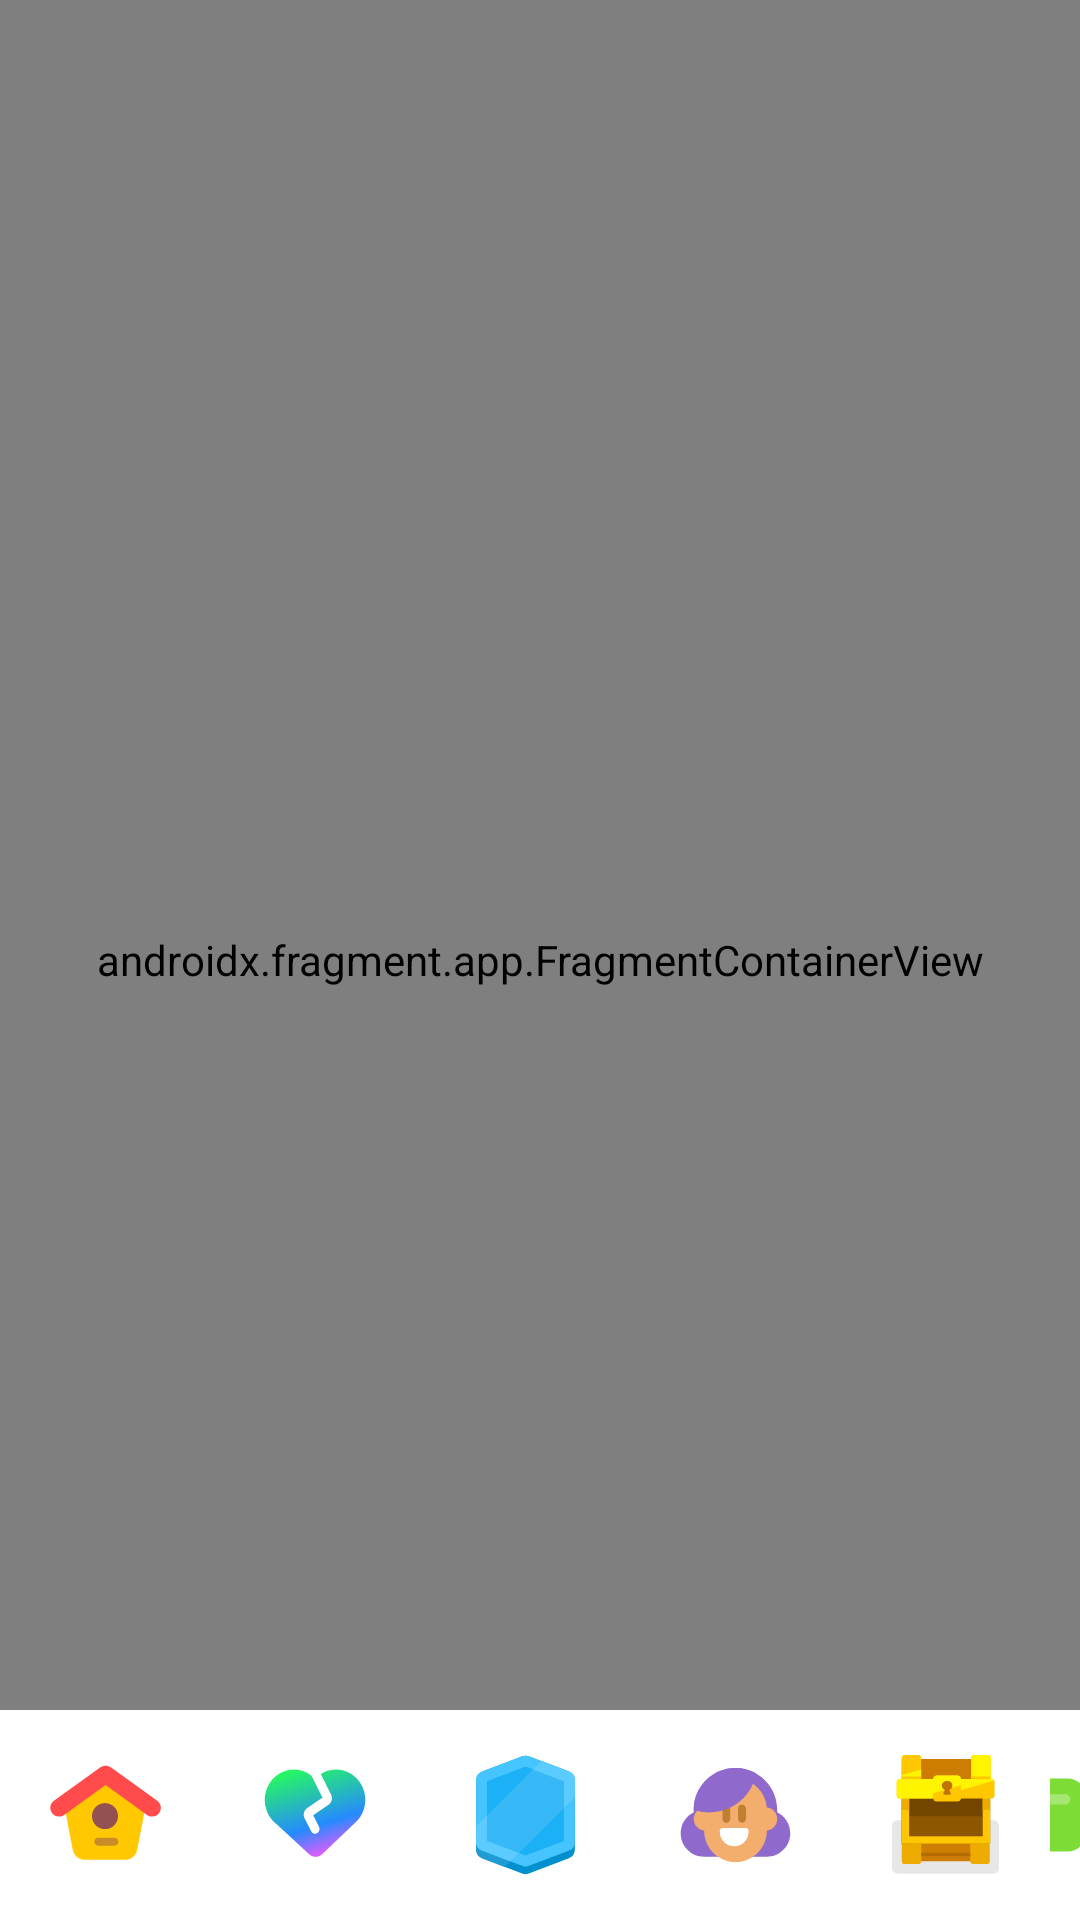

Point at icon controls on the screen. Image size 1080*1920, points as [x,y].
A heart: [315,1813]
A house: [105,1812]
A person smiling: [735,1815]
